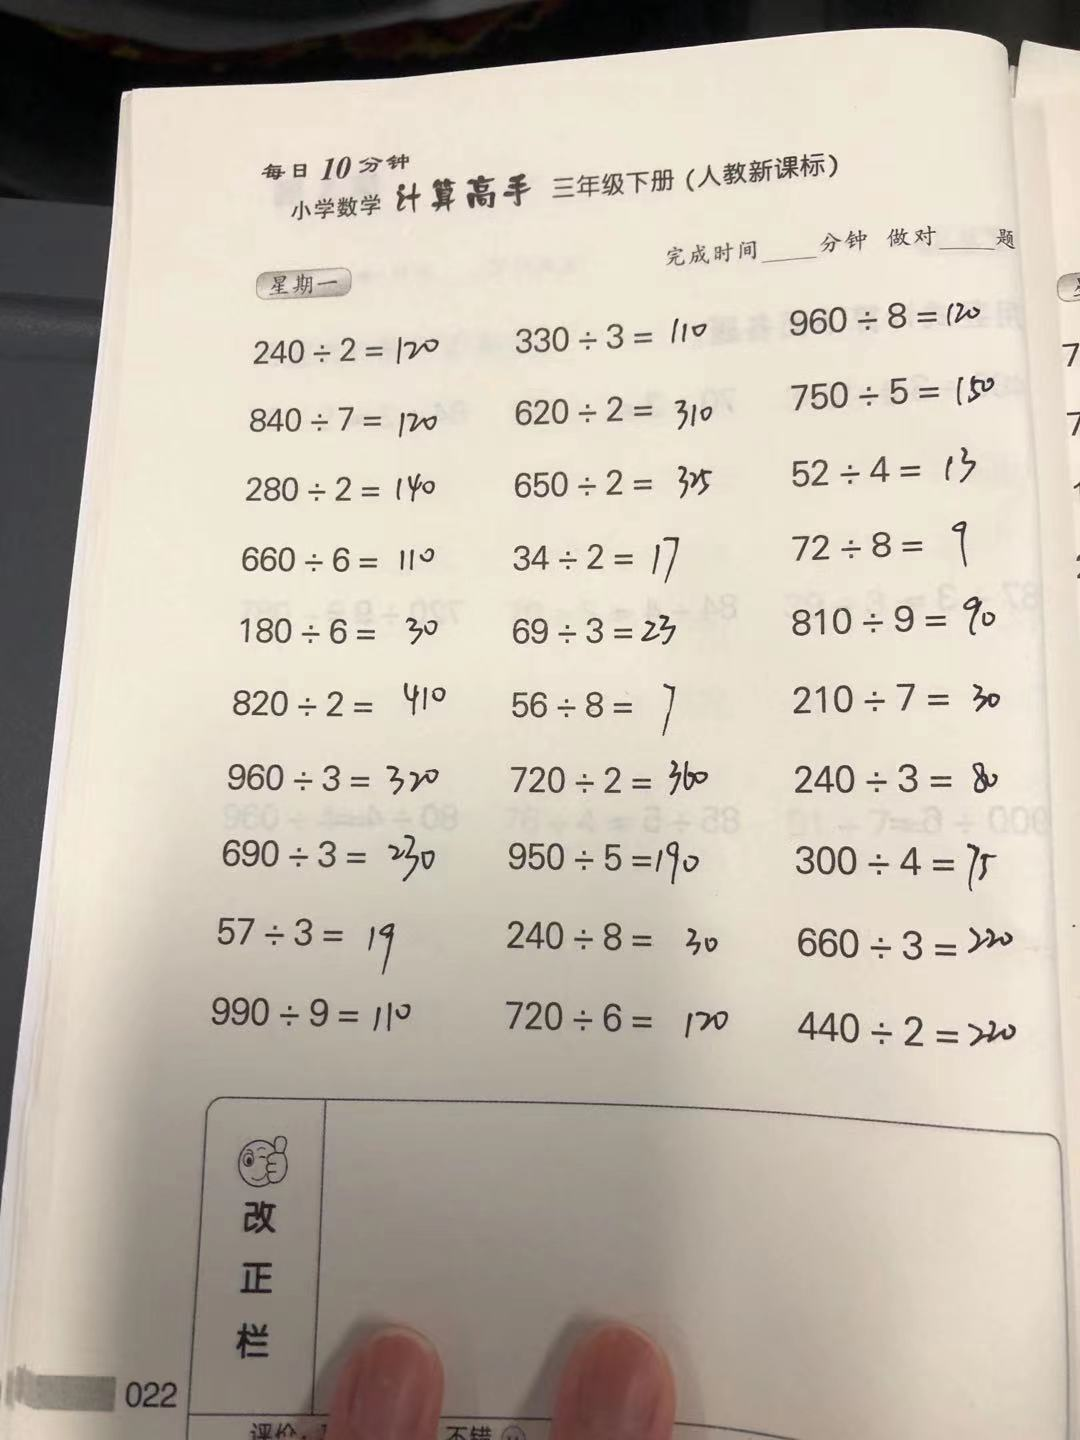equation: (218, 820, 463, 881), (207, 905, 427, 972), (499, 985, 733, 1045), (793, 997, 1026, 1053), (787, 670, 1006, 727), (501, 678, 699, 741), (780, 836, 1006, 891), (778, 439, 1008, 491), (207, 988, 431, 1041), (787, 362, 998, 417), (780, 597, 1013, 646), (500, 918, 727, 968), (239, 395, 447, 449), (787, 512, 997, 564), (234, 464, 457, 511), (507, 835, 721, 883), (513, 391, 721, 439), (234, 606, 445, 652), (228, 679, 453, 720), (790, 924, 1032, 962), (506, 462, 724, 503), (790, 292, 986, 335), (249, 331, 453, 372), (504, 531, 696, 573), (509, 613, 694, 656), (228, 761, 453, 796), (791, 759, 1010, 794), (235, 538, 453, 573), (511, 763, 707, 801), (511, 321, 740, 351)
